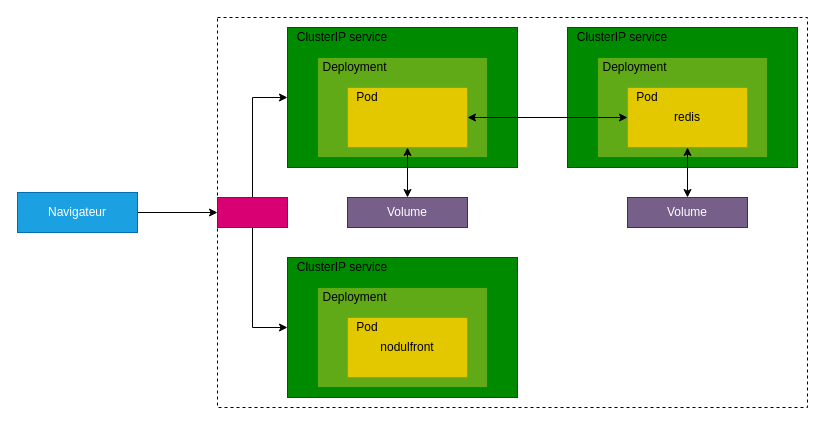
Some shapes in this 825 by 425 pixel diagram are drawn without their labels. Each missing label, with the box of its shape:
Ingress: (216, 196, 288, 228)
nodulapi: (346, 86, 468, 148)
